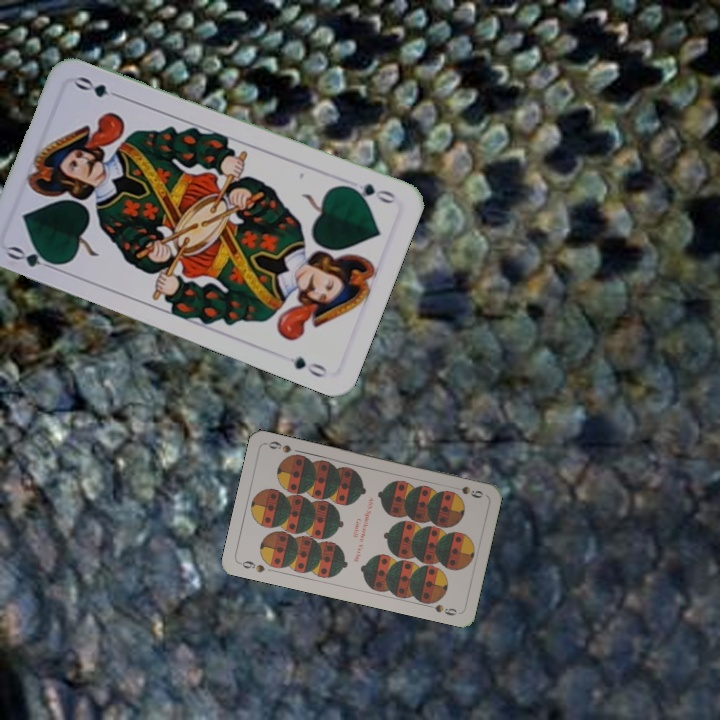GO: (3, 242, 63, 274), (341, 179, 398, 207)
S9: (449, 482, 486, 501), (236, 557, 267, 575)
